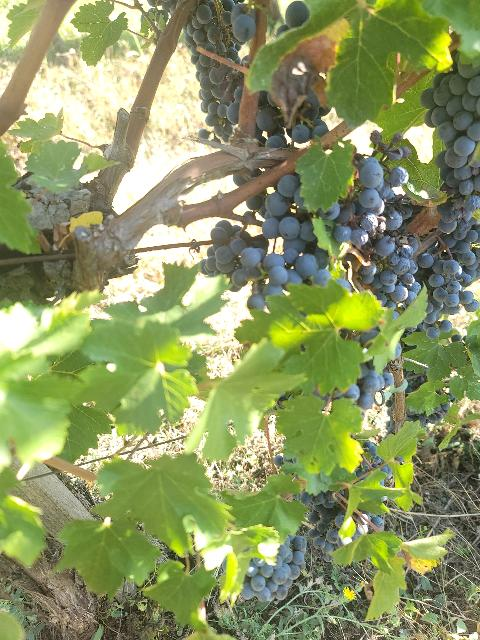grapes: (200, 191, 331, 309), (321, 156, 421, 305), (420, 52, 480, 240), (185, 0, 255, 141), (241, 535, 306, 602)
